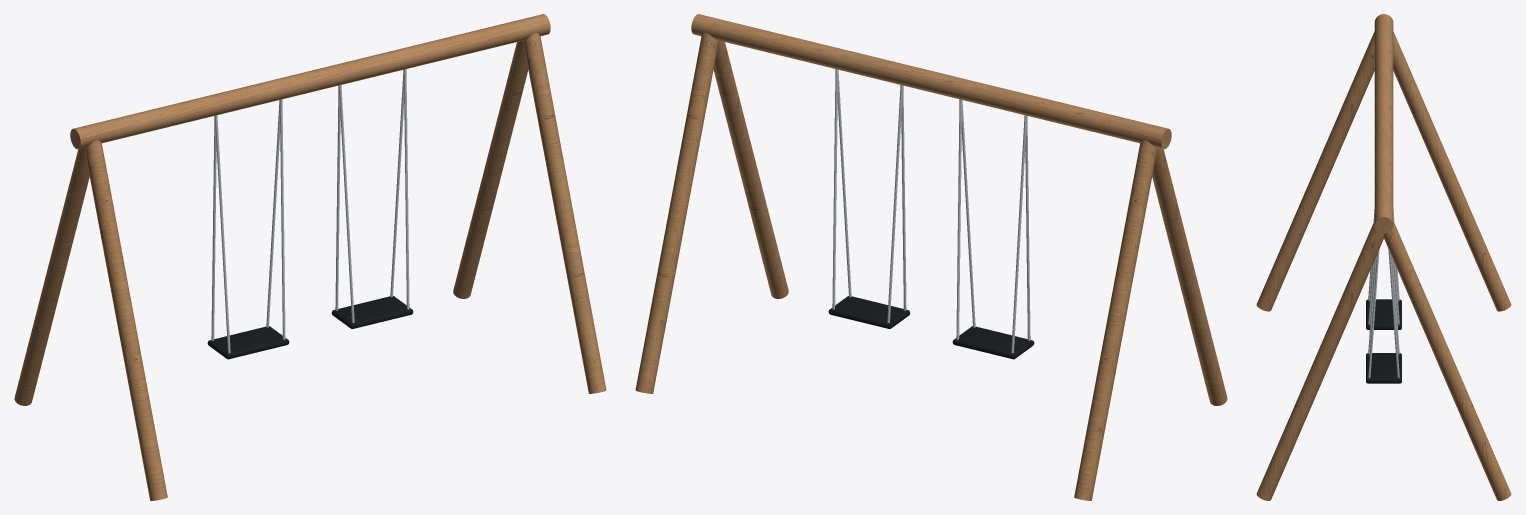
Rendered from columpio_parque_doble_base.glb.
3 views of the same model, side by side, from view 1: azimuth 30°, elevation 25°; view 2: azimuth 150°, elevation 25°; view 3: azimuth 270°, elevation 25° (orthographic). The views are drawn at different scales.
Visible parts, largest first — view 1: columpio_parque_doble_base; view 2: columpio_parque_doble_base; view 3: columpio_parque_doble_base.
Boxes of the visible parts, box(x1,y1,x2,y2) form: columpio_parque_doble_base: box(14, 14, 606, 500); columpio_parque_doble_base: box(635, 14, 1227, 500); columpio_parque_doble_base: box(1256, 14, 1511, 500).
Bounding box in the file's own units: 3.6 × 2.39 × 1.91.
Materials: 3 (1 with a texture image).
